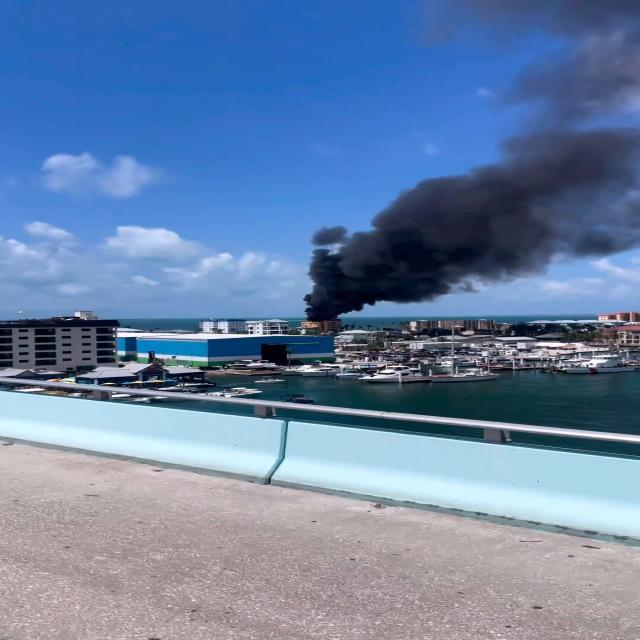Smoke: (300, 230, 442, 296), (440, 188, 556, 258)
